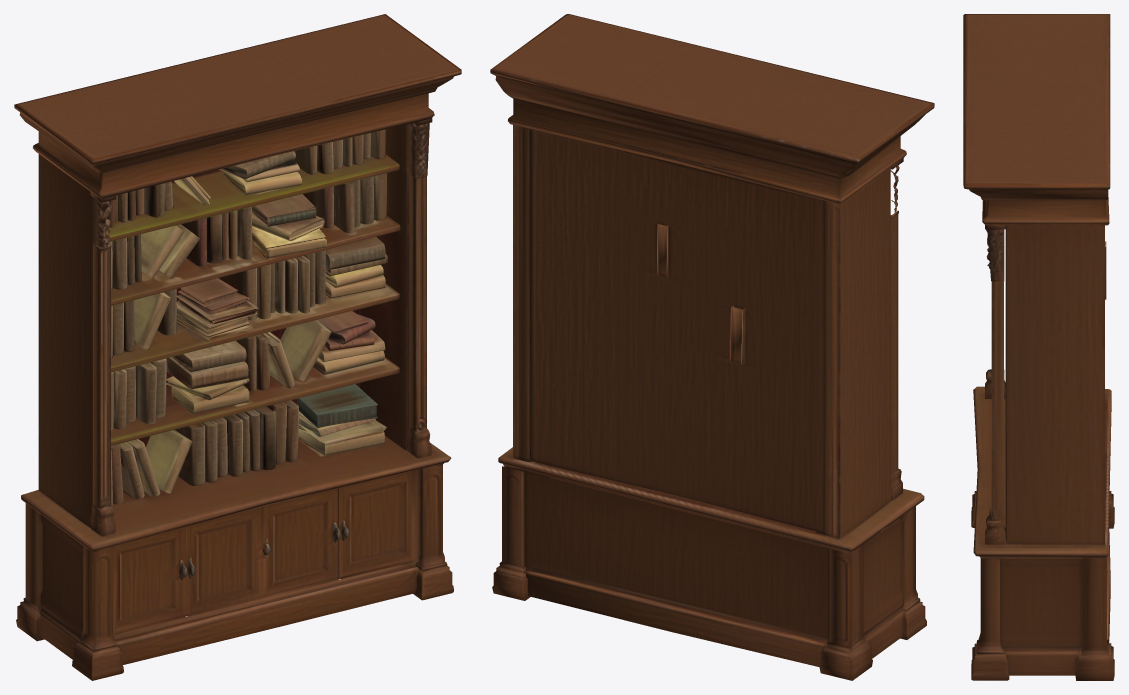
Rendered from realistic-bookcase.glb.
3 renders of one model, left to right at view 1: azimuth 30°, elevation 25°; view 2: azimuth 150°, elevation 25°; view 3: azimuth 270°, elevation 25°, orthographic. The views are drawn at different scales.
Parts seen in each view (by area): view 1: tripo_8dba0b25_c08e_4e48_aa73_36a0db4e09dd; view 2: tripo_8dba0b25_c08e_4e48_aa73_36a0db4e09dd; view 3: tripo_8dba0b25_c08e_4e48_aa73_36a0db4e09dd.
Part boxes in pixels (x1,y1,x2,y2): tripo_8dba0b25_c08e_4e48_aa73_36a0db4e09dd: [14, 14, 461, 680]; tripo_8dba0b25_c08e_4e48_aa73_36a0db4e09dd: [490, 14, 934, 680]; tripo_8dba0b25_c08e_4e48_aa73_36a0db4e09dd: [963, 14, 1114, 680].
Size of the model in its own units: 0.7388 by 0.9995 by 0.2749.
1 material, 1 textured.
